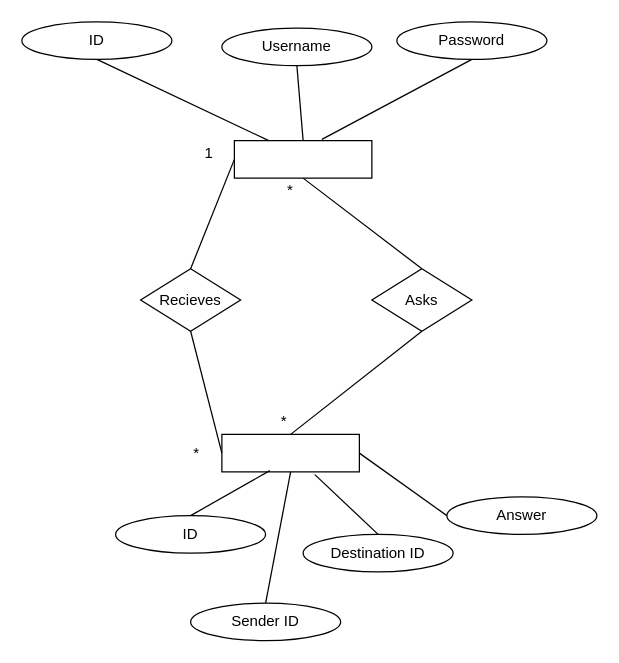
This 619x663 diagram has some shape labels left out. Here are the shapes that lost their labels. From the top down, the centre of each, then its label:
At point (302, 158): "User".
At point (290, 452): "Question".
